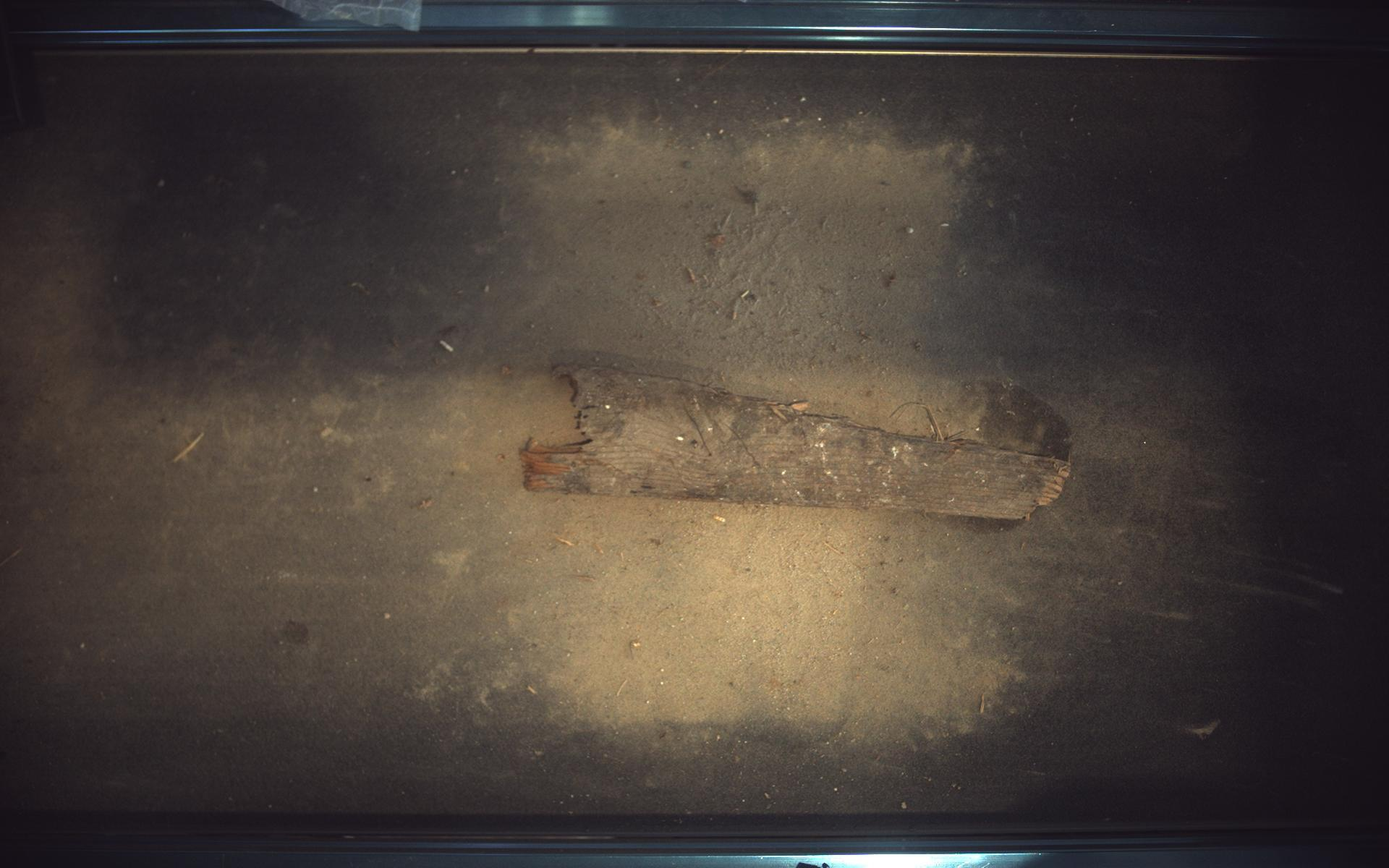wood: (521, 366, 1072, 520)
